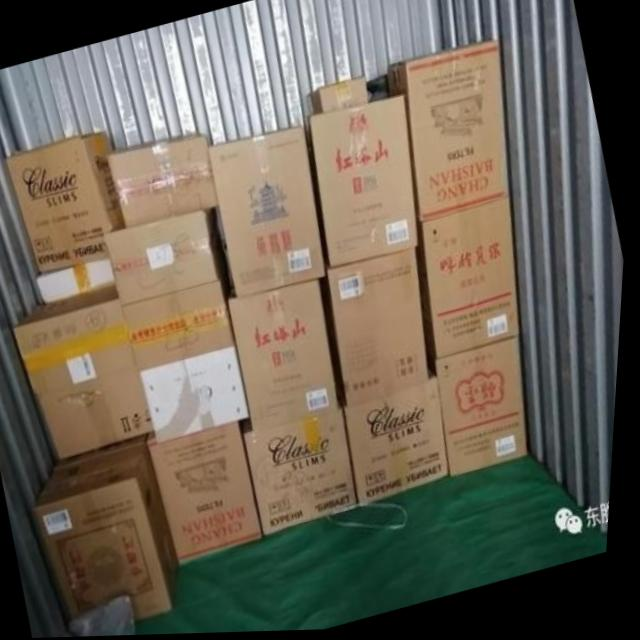box: (38, 435, 185, 624), (17, 284, 160, 460), (388, 42, 511, 225), (211, 127, 328, 299), (311, 97, 421, 268), (231, 283, 344, 432), (7, 132, 126, 270), (424, 197, 524, 360), (330, 254, 434, 410), (154, 422, 267, 560), (249, 412, 363, 538), (350, 379, 454, 509), (440, 340, 534, 481), (106, 209, 227, 305), (125, 281, 239, 374), (109, 133, 221, 227), (311, 77, 371, 119)
